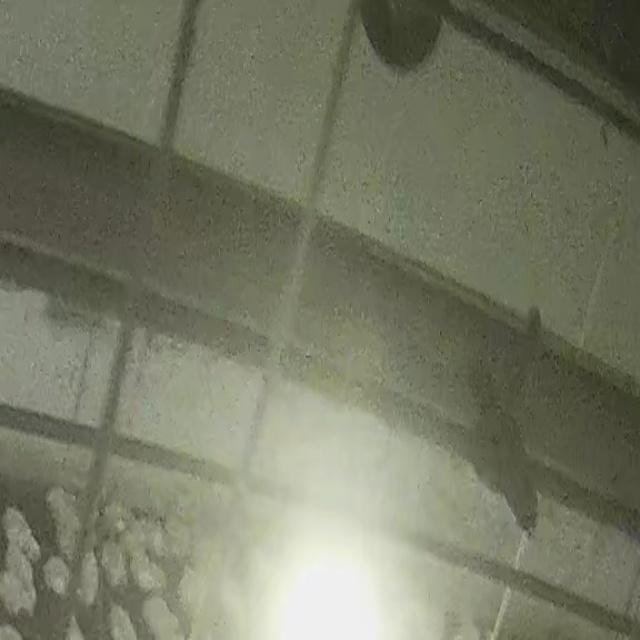chicken: (44, 484, 86, 565), (0, 552, 39, 619), (1, 504, 42, 567), (137, 592, 186, 639), (99, 538, 131, 594), (41, 551, 74, 602), (78, 539, 103, 604), (127, 547, 160, 592), (107, 602, 141, 640)
